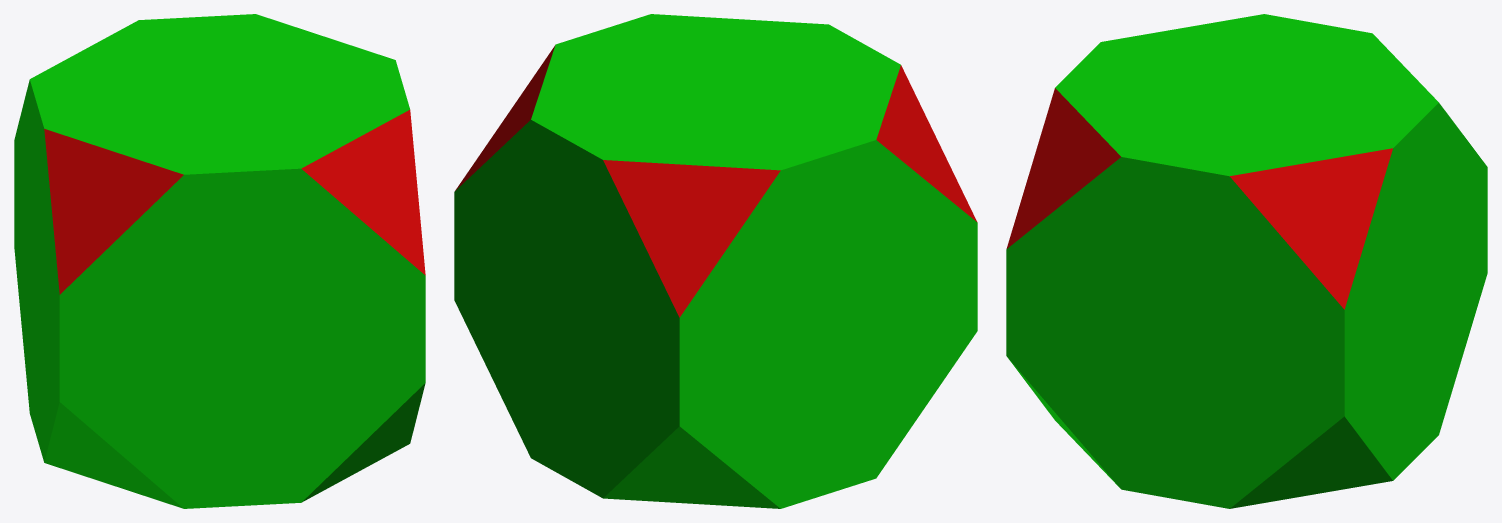
The model's file is anim_cube_000049.obj.
3 renders of one model, left to right at view 1: azimuth 30°, elevation 25°; view 2: azimuth 150°, elevation 25°; view 3: azimuth 270°, elevation 25°, orthographic.
Visible parts, largest first — view 1: Cube_Cube.002_Material.002, Cube_Cube.002_Material.001; view 2: Cube_Cube.002_Material.002, Cube_Cube.002_Material.001; view 3: Cube_Cube.002_Material.002, Cube_Cube.002_Material.001.
Boxes of the visible parts, bbox=[...] form: Cube_Cube.002_Material.002: bbox=[14, 14, 425, 508]; Cube_Cube.002_Material.001: bbox=[44, 110, 425, 294]; Cube_Cube.002_Material.002: bbox=[454, 14, 977, 508]; Cube_Cube.002_Material.001: bbox=[455, 45, 977, 317]; Cube_Cube.002_Material.002: bbox=[1006, 14, 1487, 508]; Cube_Cube.002_Material.001: bbox=[1006, 88, 1392, 309].
Bounding box in the file's own units: 4.06 × 3.09 × 4.06.
